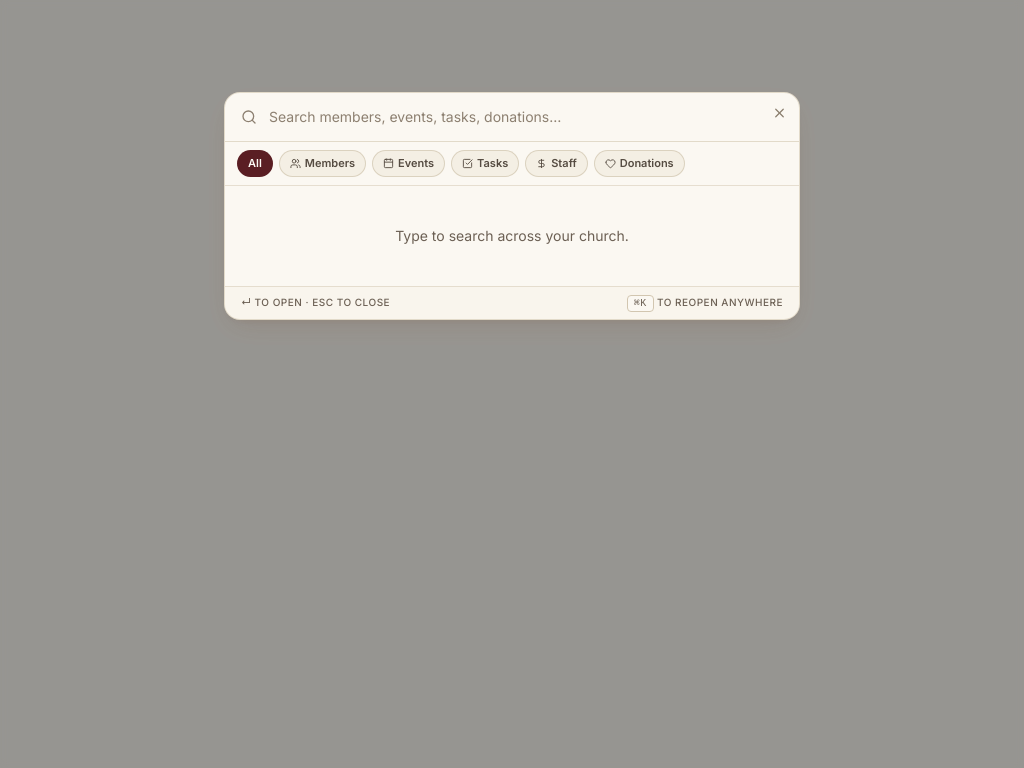
Scenario: picking a search hit › retry listener across open / close › mounted closed, then opened: a same-tick retype after an error searches again
In the field named "Search query": (512, 117) [225,93,799,141], type "maria"
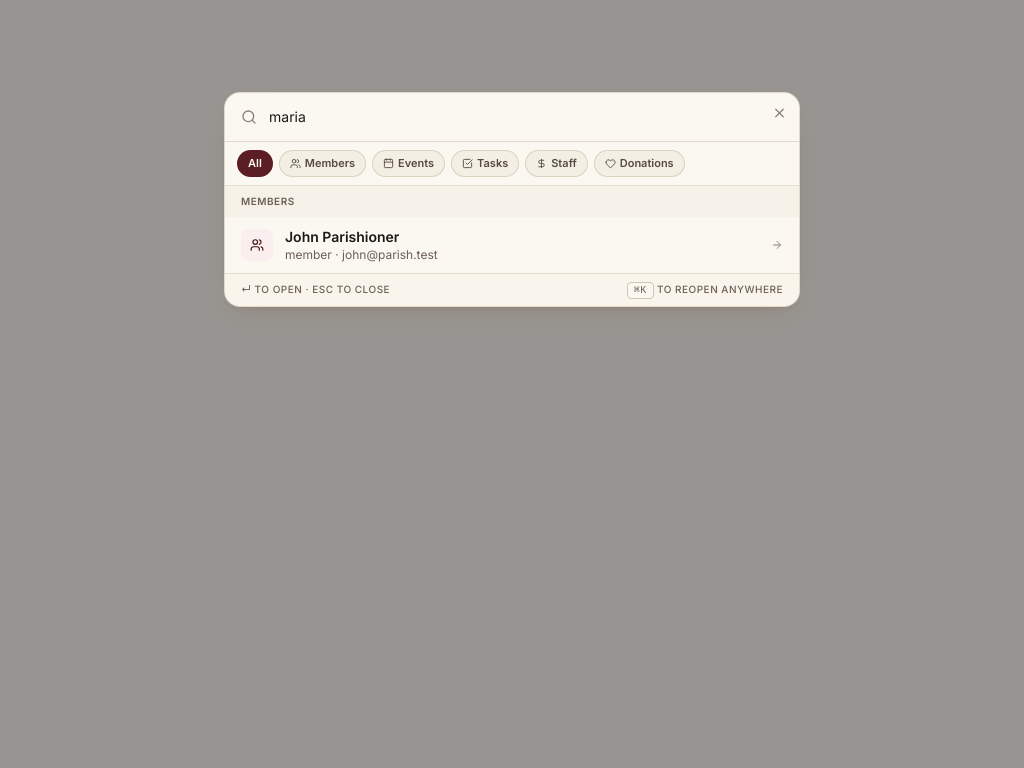
Expected: the button "John Parishioner member · john@parish.test" is shown, [225,217,799,273]
